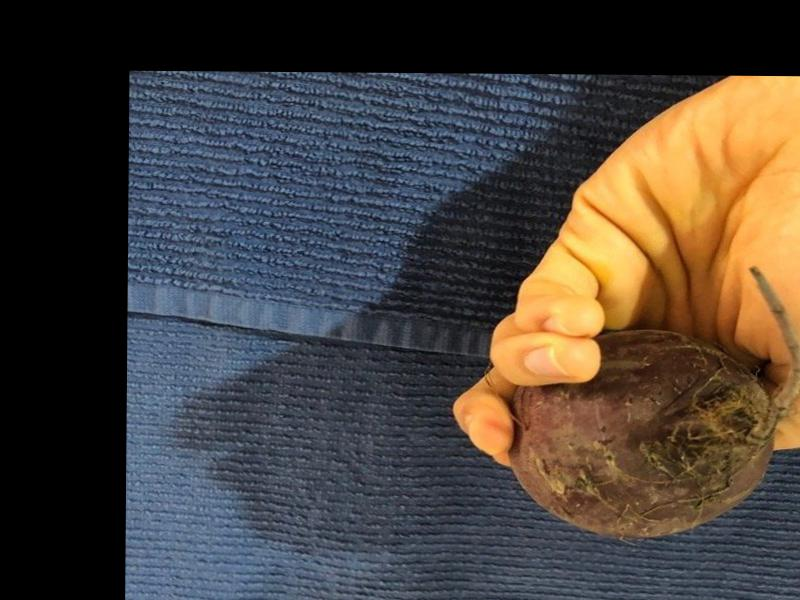Beet: (508, 260, 800, 537)
